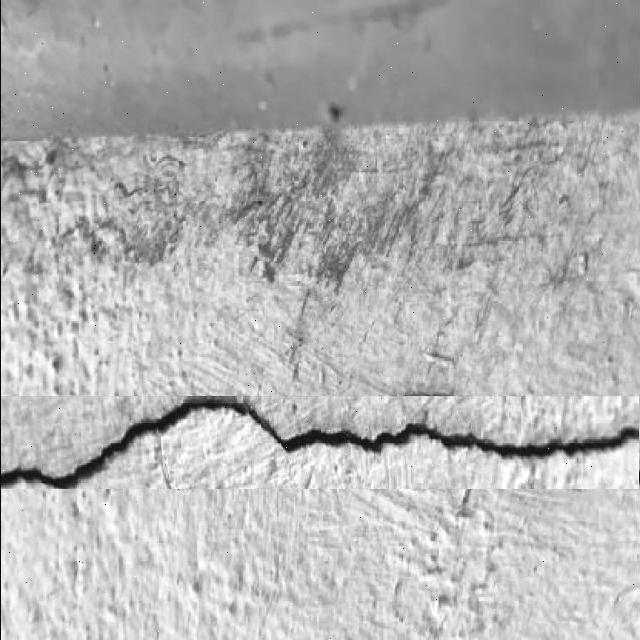crack: (1, 393, 639, 492)
